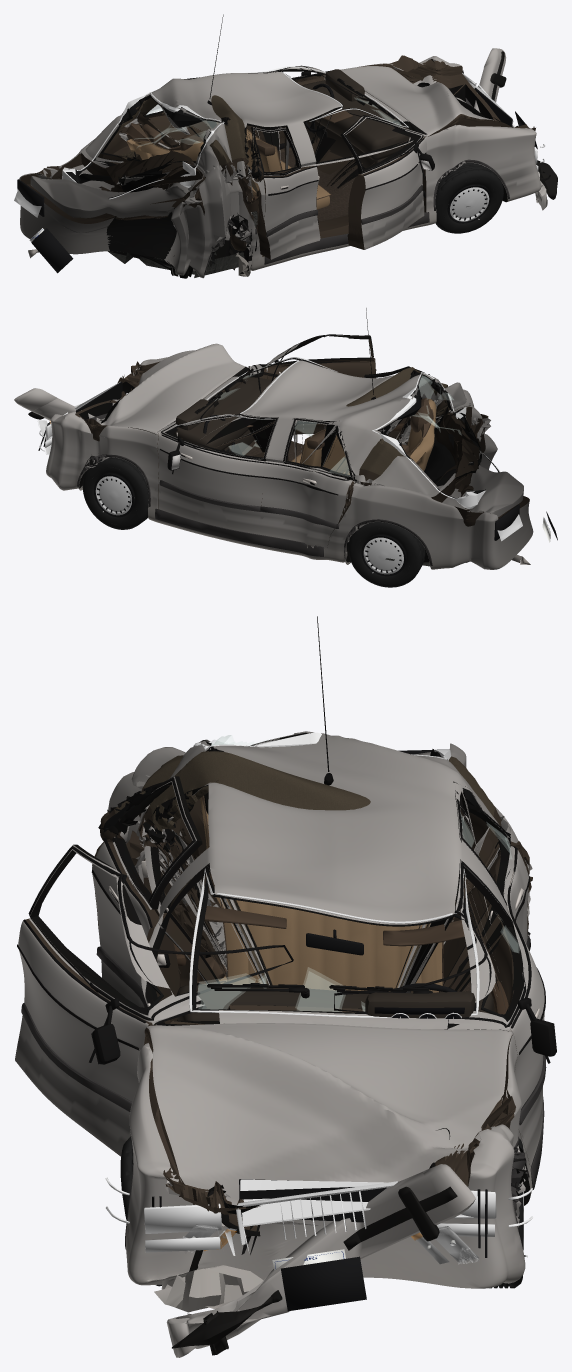
The model's file is sedan87_rear_corner_R_d3_lod1.glb.
3 renders of one model, top to bottom at view 1: azimuth 30°, elevation 25°; view 2: azimuth 150°, elevation 25°; view 3: azimuth 270°, elevation 25°, orthographic. The views are drawn at different scales.
Visible parts, largest first — view 1: Body, Interior, Door_FR, Trunk, Door_RR, Hood, Wheel_FR_mesh, Glass, Ends, Trim, Bumper_F, Trim_FR (+3 smaller); view 2: Body, Door_FL, Hood, Door_RL, Interior, Wheel_RL_mesh, Wheel_FL_mesh, Trim, Trunk, Glass, Door_FR, Trim_FL (+4 smaller); view 3: Body, Hood, Interior, Door_FR, Ends, Bumper_F, Door_RR, Door_FL, Glass, Trim_FR, Trim_FL, Trim (+2 smaller).
Part boxes in pixels (box(x1,y1,x2,y2)): Body: box(19, 55, 543, 278); Interior: box(126, 69, 409, 209); Door_FR: box(340, 116, 426, 249); Trunk: box(30, 158, 204, 220); Door_RR: box(248, 127, 320, 259); Hood: box(340, 66, 512, 136); Wheel_FR_mesh: box(435, 163, 503, 233); Glass: box(62, 66, 408, 199); Ends: box(14, 70, 544, 273); Trim: box(204, 14, 509, 274); Bumper_F: box(474, 48, 557, 210); Trim_FR: box(344, 112, 434, 224); Body: box(46, 357, 533, 569); Door_FL: box(157, 414, 278, 534); Hood: box(97, 343, 246, 434); Door_RL: box(258, 418, 355, 549); Interior: box(174, 375, 436, 474); Wheel_RL_mesh: box(348, 522, 425, 587); Wheel_FL_mesh: box(82, 457, 148, 529); Trim: box(77, 308, 432, 565); Trunk: box(434, 406, 523, 517); Glass: box(175, 357, 500, 508); Door_FR: box(248, 335, 375, 434); Trim_FL: box(159, 396, 277, 511); Body: box(108, 731, 532, 1312); Hood: box(144, 1023, 512, 1236); Interior: box(176, 795, 493, 1025); Door_FR: box(15, 844, 206, 1156); Ends: box(105, 749, 533, 1311); Bumper_F: box(166, 1164, 475, 1357); Door_RR: box(92, 776, 202, 1022); Door_FL: box(448, 860, 544, 1167); Glass: box(189, 732, 479, 1017); Trim_FR: box(17, 846, 293, 1111); Trim_FL: box(334, 861, 556, 1125); Trim: box(125, 616, 544, 1249).
Bounding box in the file's own units: 4.81 × 2.15 × 2.24.
32 materials, 5 textured.
